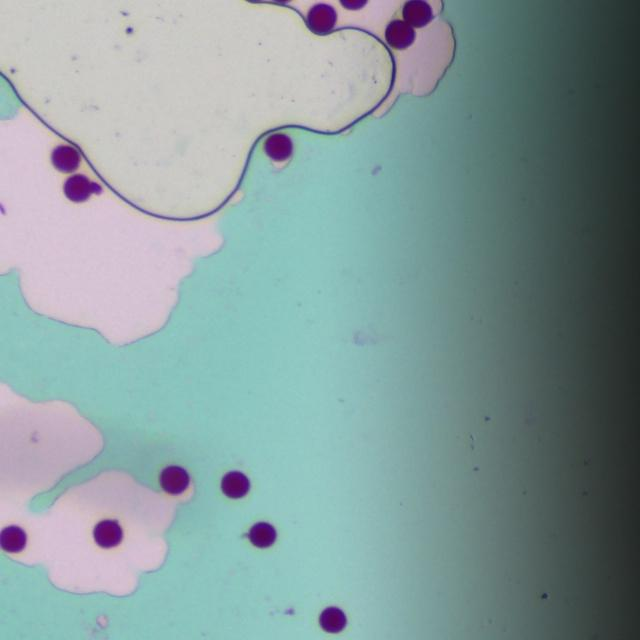viable: (307, 3, 336, 34), (160, 466, 189, 494), (385, 20, 414, 48), (51, 145, 80, 172), (403, 0, 432, 27), (264, 133, 292, 160), (221, 471, 249, 498), (94, 520, 122, 547), (64, 174, 92, 201), (0, 525, 26, 552), (319, 606, 346, 632), (248, 522, 276, 546), (340, 0, 366, 9)
